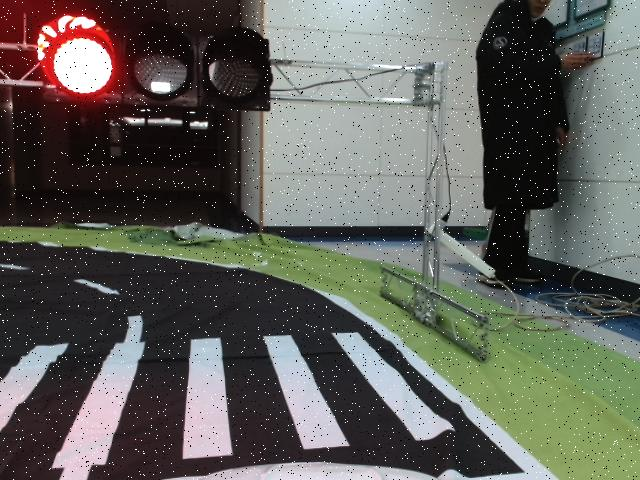crosswalk: (0, 330, 458, 466)
traffic light-red-: (36, 16, 271, 112)
